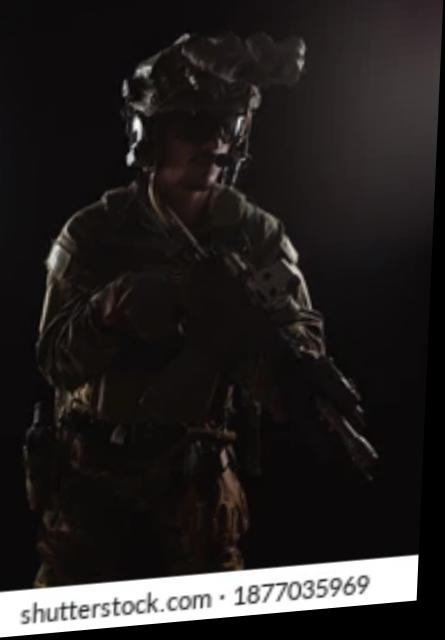other: (29, 33, 344, 579)
